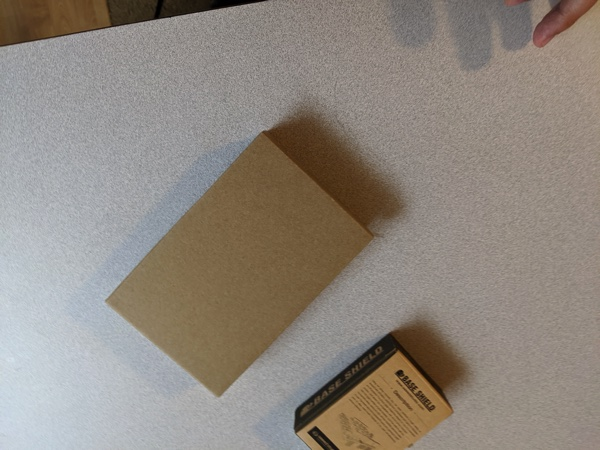cardboard: (80, 114, 382, 401), (291, 328, 463, 450)
